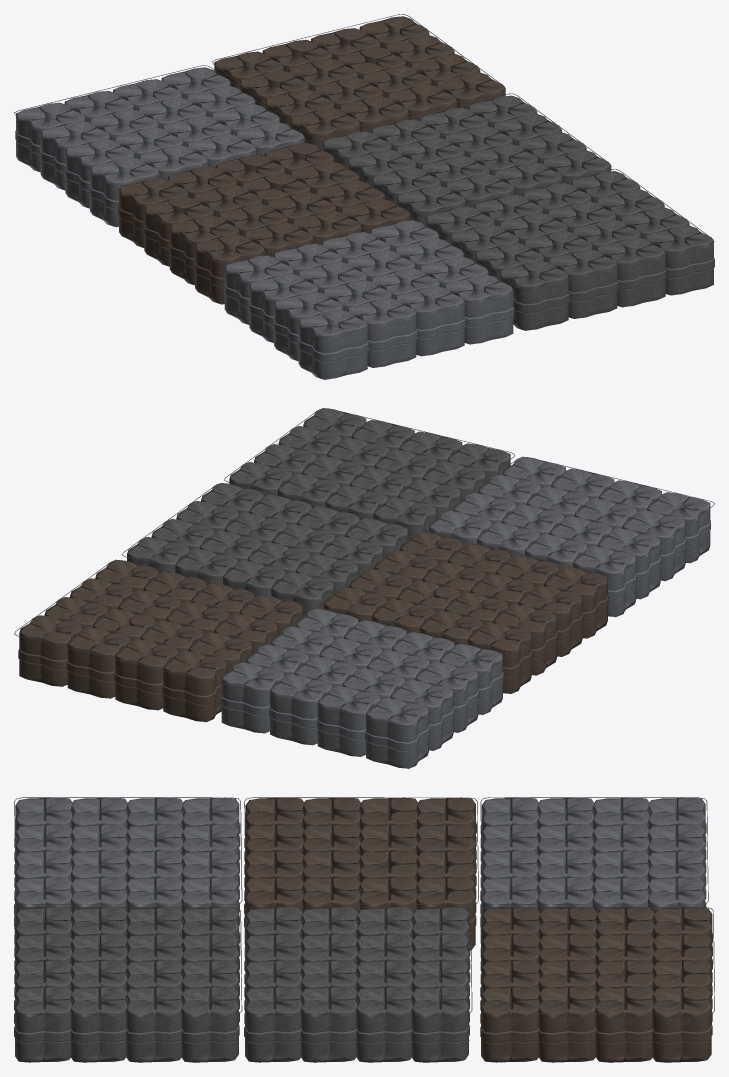
File: Coils2.glb
3 views of the same model, one above another, from view 1: azimuth 30°, elevation 25°; view 2: azimuth 150°, elevation 25°; view 3: azimuth 270°, elevation 25° (orthographic). The views are drawn at different scales.
Visible parts, largest first — view 1: CoilModules; view 2: CoilModules; view 3: CoilModules.
Boxes of the visible parts, x1=… form: CoilModules: x1=14, y1=14, x2=714, y2=379; CoilModules: x1=14, y1=408, x2=714, y2=768; CoilModules: x1=14, y1=797, x2=714, y2=1062.
Size of the model in its own units: 1.44 by 0.161 by 1.97.
Materials: 1 (1 with a texture image).
